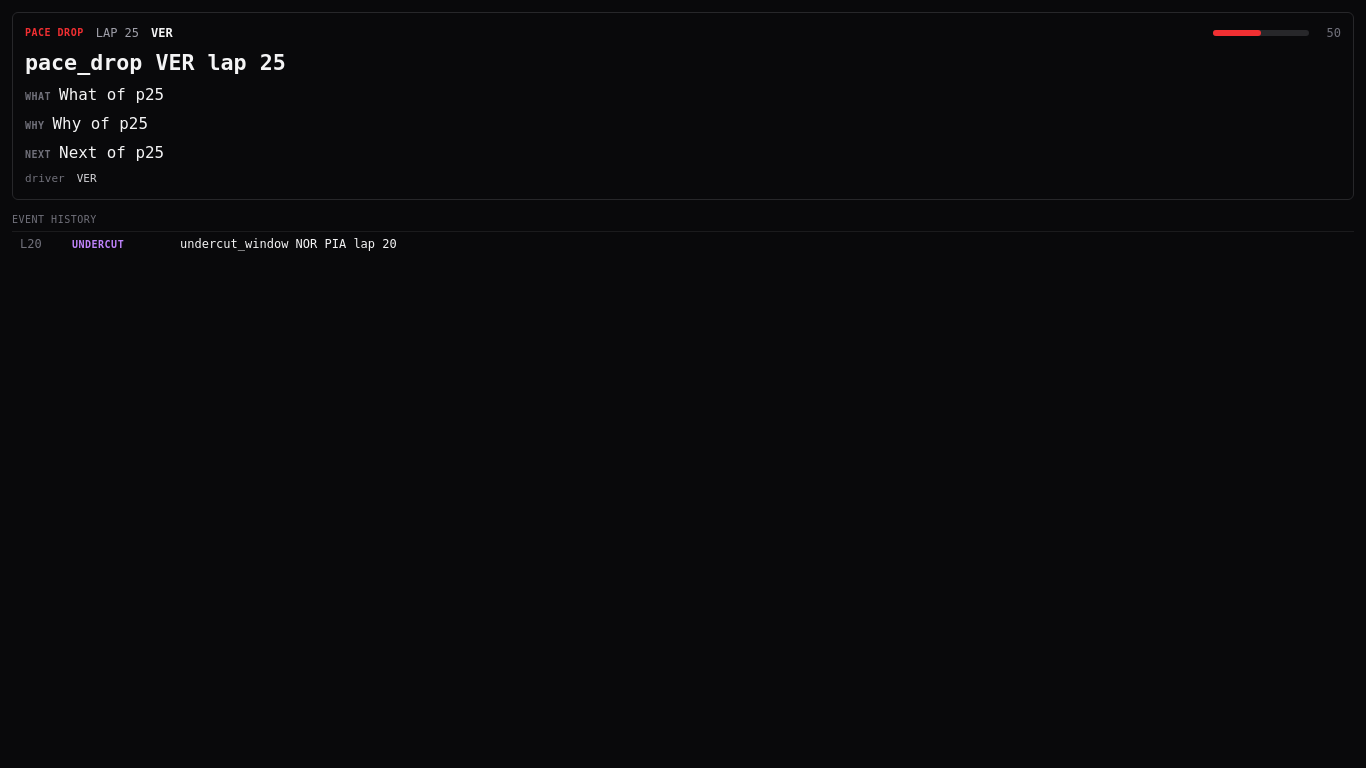
Test: Clickable numbers with a chart popover › clicking 1.8 opens 'Race trace · NOR PIA · lap 20' with one trace?lap=20 request and only NOR and PIA
The image size is (1366, 768).
Click the button.
click(98, 244)  # box [12,232,1354,256]
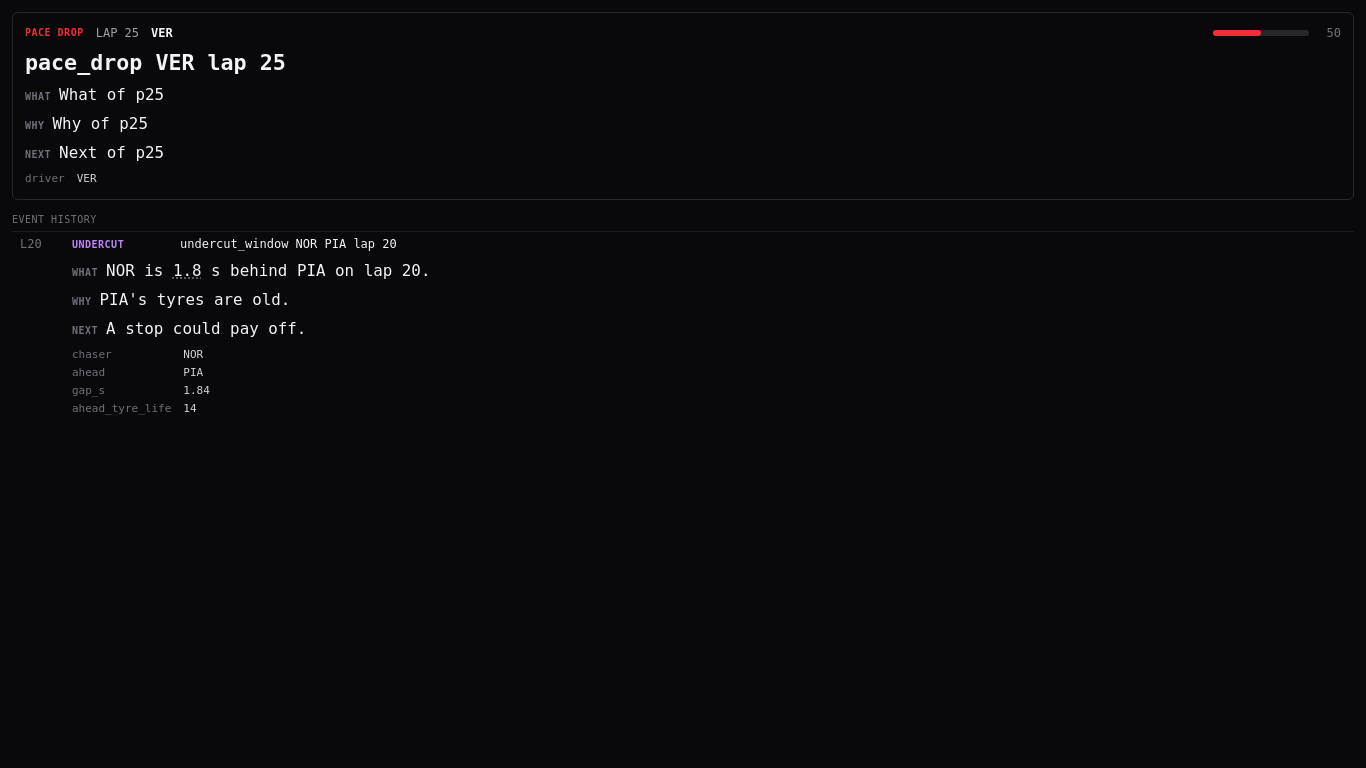
Click the button named "1.8: show on chart".
click(187, 272)  # box [173,260,202,283]
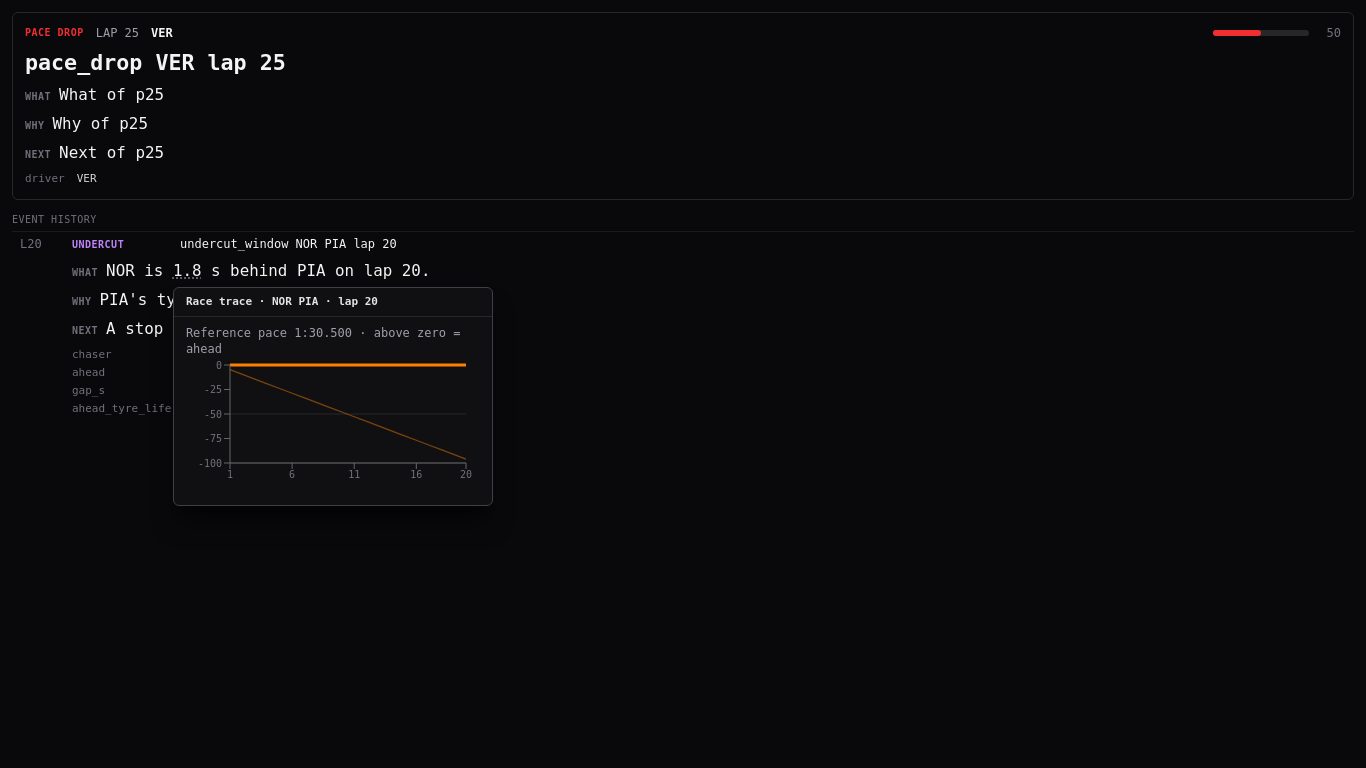
Check: the element with test id "chart-caption" shows "Reference pace", box [186,326,352,340]
